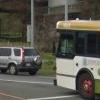Bus: (47, 17, 100, 98)
